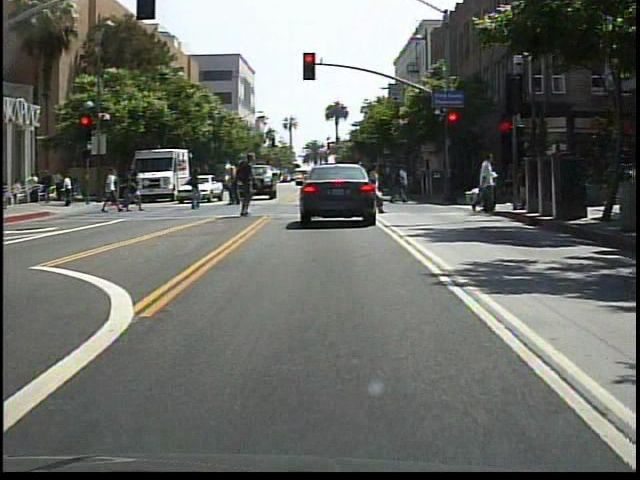person: (229, 152, 262, 221), (470, 150, 502, 218), (367, 163, 391, 221), (103, 167, 126, 216), (116, 167, 137, 212), (186, 168, 206, 215), (228, 167, 245, 208), (128, 170, 143, 215)
